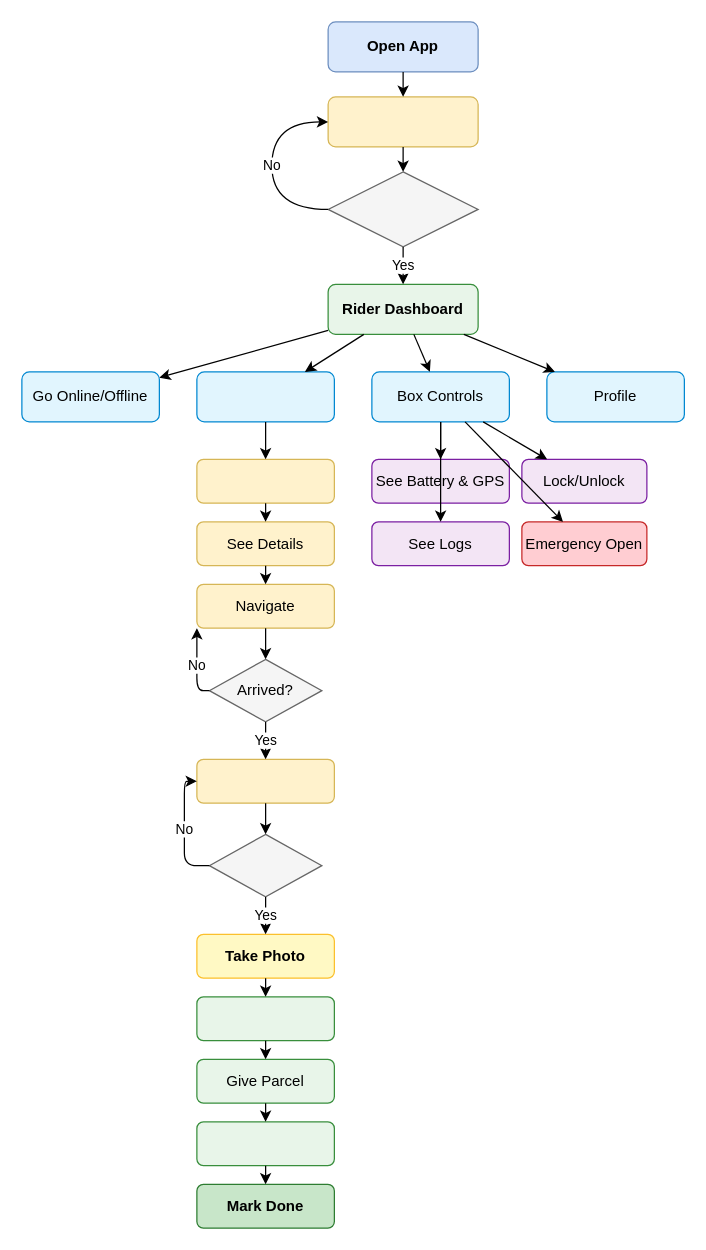
The diagram is 706 pixels wide and 1250 high, and some of its shapes have lost their labels. Each missing label, with the centre of its shape:
Correct?: the point at 265,865
Lock Box: the point at 265,1143
Logged In?: the point at 402,209
Login Screen: the point at 402,121
My Deliveries: the point at 265,396
Pick Delivery: the point at 265,480
Type OTP: the point at 265,780
Unlock Box: the point at 265,1018
